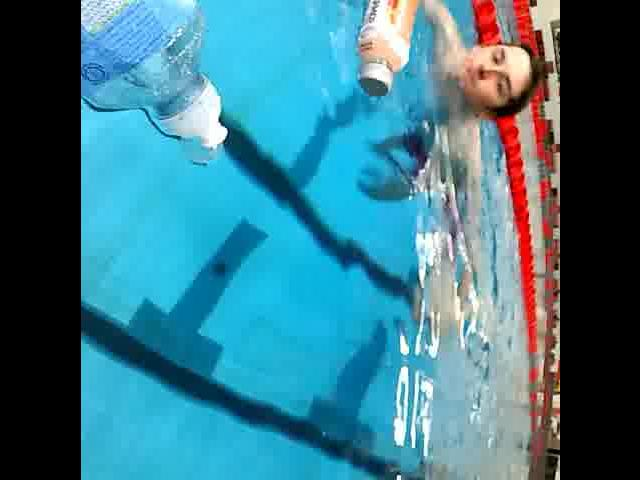Bottle: (80, 0, 238, 156), (348, 0, 422, 100)
